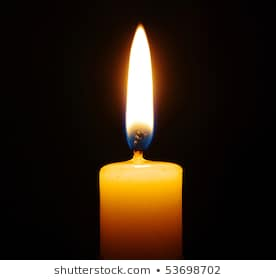Fire: (120, 21, 160, 155)
